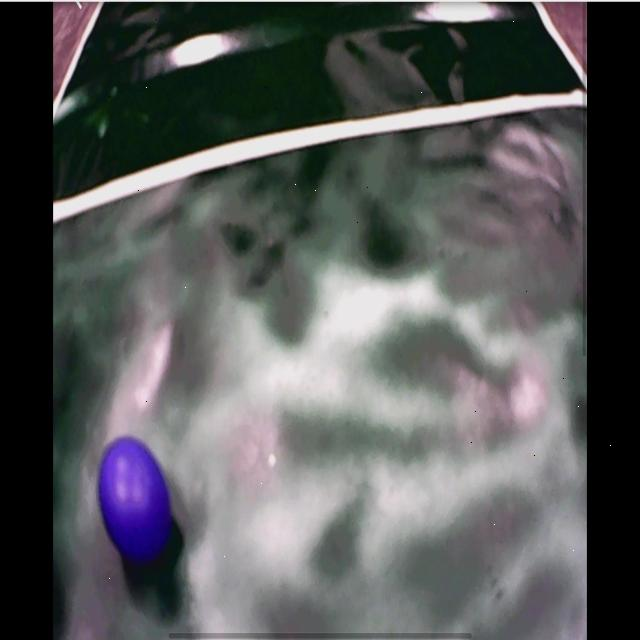ball: (99, 432, 174, 565)
